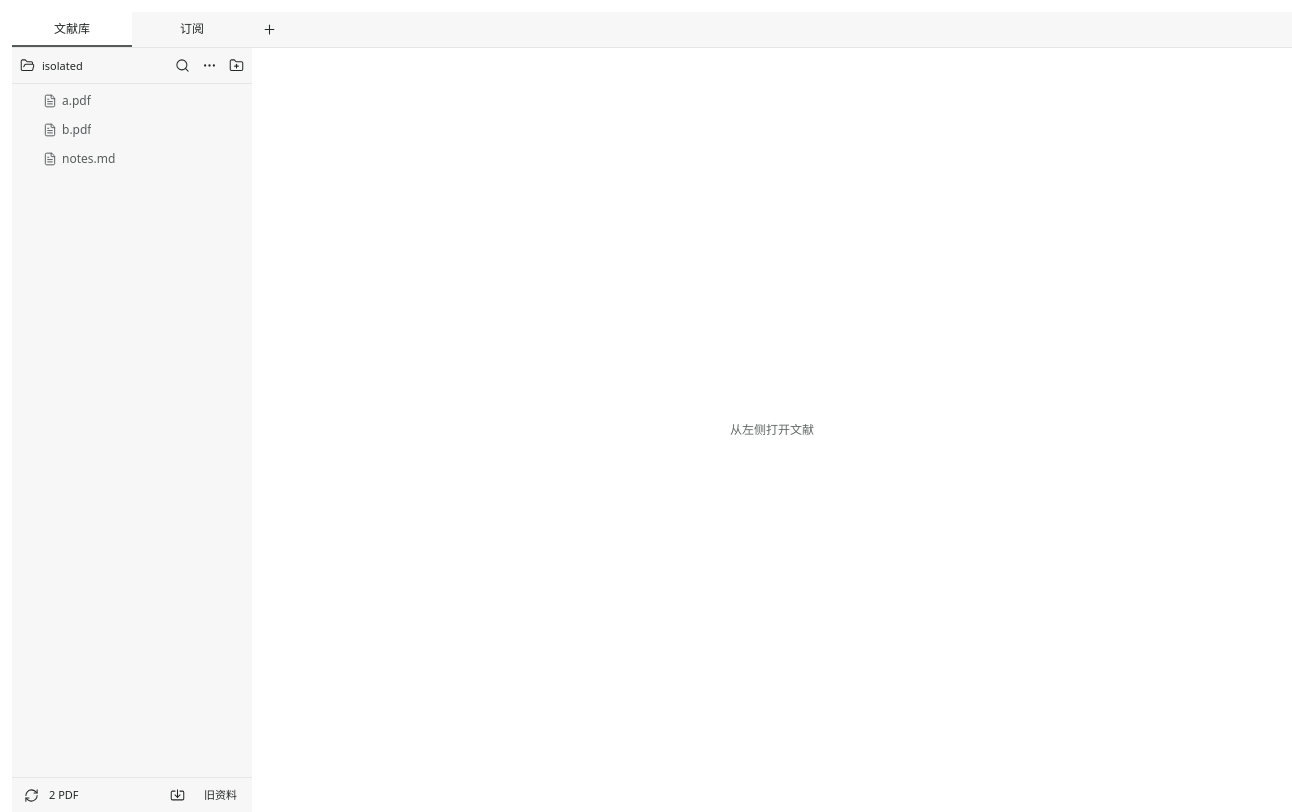
Scenario: opens Markdown literature files in the center instead of launching an external app
This screenshot has width=1292, height=812.
Click the list item "notes.md". click: x=132, y=159
box: left=16, top=145, right=248, bottom=173
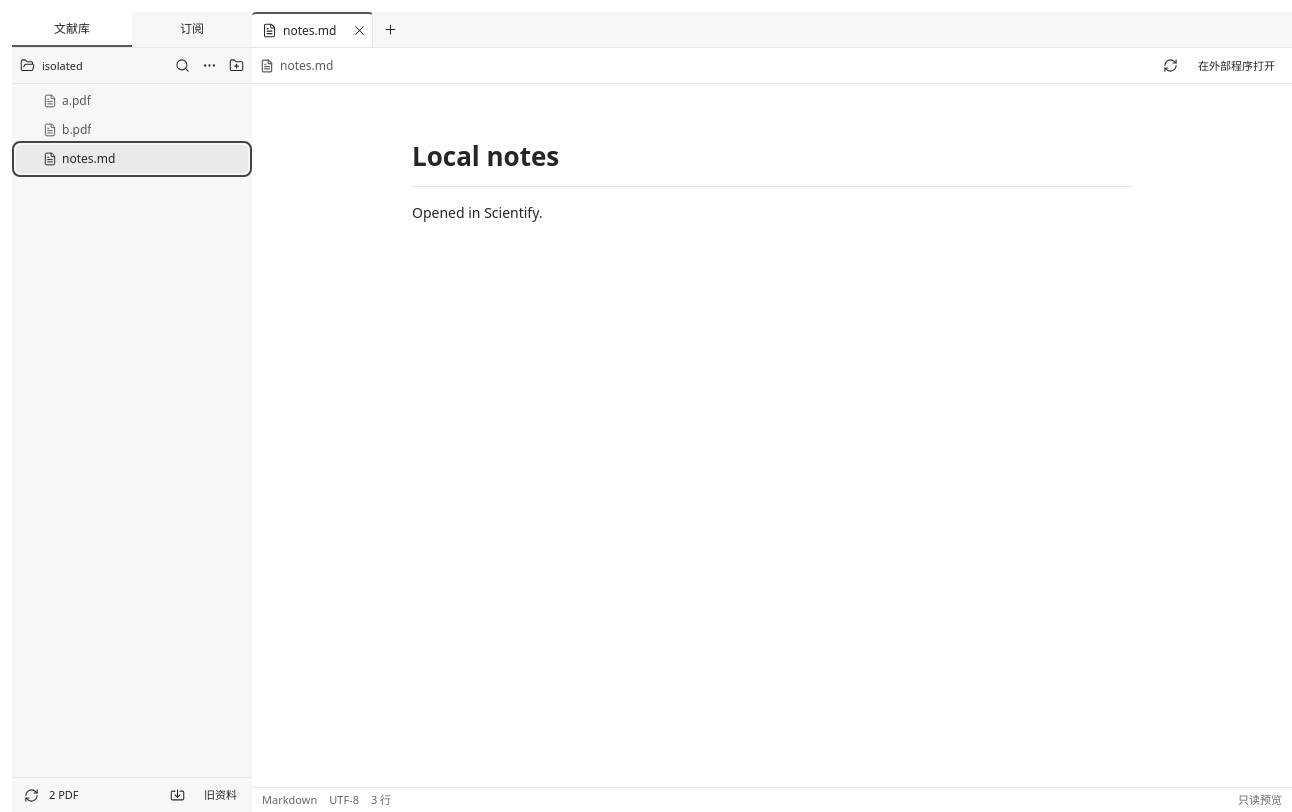
Result: the element named "Markdown 预览" is shown at left=412, top=138, right=1132, bottom=222
Result: the heading "Local notes" is shown at left=412, top=138, right=1132, bottom=187
